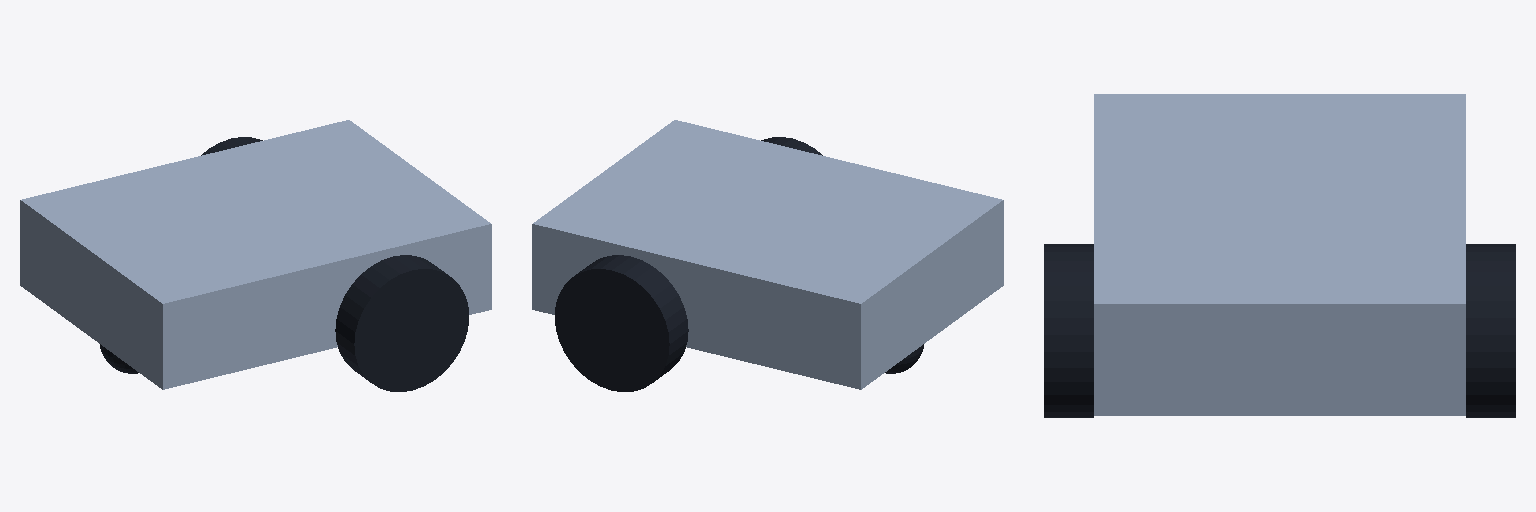
URDF robot description (diff_drive_base):
<?xml version="1.0"?>
<!-- Template of the robot builder (RFC 0016): a differential-drive base, two driven wheels
     and a caster. Sizes, densities, efforts and speeds are illustrative; edit them. -->
<robot name="diff_drive_base">
  <material name="builder_color_1">
    <color rgba="0.66 0.72 0.81 1"/>
  </material>
  <material name="builder_color_2">
    <color rgba="0.16 0.18 0.22 1"/>
  </material>
  <link name="base_link" lagrange_density="1240">
    <inertial lagrange_overrides="">
      <origin xyz="0 0 0"/>
      <mass value="14.879999999999999"/>
      <inertia ixx="0.124" ixy="0" ixz="0" iyy="0.21080000000000002" iyz="0" izz="0.31"/>
    </inertial>
    <visual>
      <geometry><box size="0.4 0.3 0.1"/></geometry>
      <material name="builder_color_1"/>
    </visual>
    <collision>
      <geometry><box size="0.4 0.3 0.1"/></geometry>
    </collision>
  </link>
  <link name="left_wheel" lagrange_density="1100">
    <inertial lagrange_overrides="">
      <origin xyz="0 0 0"/>
      <mass value="0.6773273761139597"/>
      <inertia ixx="0.0009200363525547953" ixy="0" ixz="0" iyy="0.0016594520714792015" iyz="-1.6418327118392777e-19" izz="0.0009200363525547953"/>
    </inertial>
    <visual>
      <origin xyz="0 0 0" rpy="1.5707963267948966 0 0"/>
      <geometry><cylinder radius="0.07" length="0.04"/></geometry>
      <material name="builder_color_2"/>
    </visual>
    <collision>
      <origin xyz="0 0 0" rpy="1.5707963267948966 0 0"/>
      <geometry><cylinder radius="0.07" length="0.04"/></geometry>
    </collision>
  </link>
  <link name="right_wheel" lagrange_density="1100">
    <inertial lagrange_overrides="">
      <origin xyz="0 0 0"/>
      <mass value="0.6773273761139597"/>
      <inertia ixx="0.0009200363525547953" ixy="0" ixz="0" iyy="0.0016594520714792015" iyz="-1.6418327118392777e-19" izz="0.0009200363525547953"/>
    </inertial>
    <visual>
      <origin xyz="0 0 0" rpy="1.5707963267948966 0 0"/>
      <geometry><cylinder radius="0.07" length="0.04"/></geometry>
      <material name="builder_color_2"/>
    </visual>
    <collision>
      <origin xyz="0 0 0" rpy="1.5707963267948966 0 0"/>
      <geometry><cylinder radius="0.07" length="0.04"/></geometry>
    </collision>
  </link>
  <link name="caster" lagrange_density="1100">
    <inertial lagrange_overrides="">
      <origin xyz="0 0 0"/>
      <mass value="0.19755381803323824"/>
      <inertia ixx="9.680137083628676e-05" ixy="0" ixz="0" iyy="9.680137083628676e-05" iyz="0" izz="9.680137083628676e-05"/>
    </inertial>
    <visual>
      <geometry><sphere radius="0.035"/></geometry>
      <material name="builder_color_2"/>
    </visual>
    <collision>
      <geometry><sphere radius="0.035"/></geometry>
    </collision>
  </link>
  <joint name="left_wheel_joint" type="continuous">
    <parent link="base_link"/>
    <child link="left_wheel"/>
    <origin xyz="0.08 0.17 -0.03" rpy="0 0 0"/>
    <axis xyz="0 1 0"/>
    <limit effort="5" velocity="10"/>
  </joint>
  <joint name="right_wheel_joint" type="continuous">
    <parent link="base_link"/>
    <child link="right_wheel"/>
    <origin xyz="0.08 -0.17 -0.03" rpy="0 0 0"/>
    <axis xyz="0 1 0"/>
    <limit effort="5" velocity="10"/>
  </joint>
  <joint name="caster_joint" type="fixed">
    <parent link="base_link"/>
    <child link="caster"/>
    <origin xyz="-0.15 0 -0.065" rpy="0 0 0"/>
  </joint>
  <gazebo reference="base_link">
    <sensor name="imu" type="imu">
      <pose>0 0 0 0 0 0</pose>
      <update_rate>100</update_rate>
    </sensor>
  </gazebo>
</robot>

--- Facts derived from the render (not from the file) ---
3 views of the same robot in one strip: view 1: azimuth 30°, elevation 25°; view 2: azimuth 150°, elevation 25°; view 3: azimuth 270°, elevation 25° (orthographic).
Robot: diff_drive_base — 4 links, 3 joints (2 continuous, 1 fixed); root link base_link; default pose: all joints at 0.
Links seen in each view (by area): view 1: base_link, right_wheel; view 2: base_link, left_wheel; view 3: base_link, left_wheel, right_wheel.
Boxes of the visible links, x1=… form: base_link: x1=20, y1=120, x2=491, y2=389; right_wheel: x1=335, y1=255, x2=468, y2=391; base_link: x1=532, y1=120, x2=1003, y2=389; left_wheel: x1=555, y1=255, x2=688, y2=391; base_link: x1=1094, y1=94, x2=1465, y2=415; left_wheel: x1=1466, y1=244, x2=1515, y2=417; right_wheel: x1=1044, y1=244, x2=1093, y2=417.
Size in the robot's own frame: 0.4 by 0.38 by 0.15 metres.
Geometry: primitives only (box / cylinder / sphere), no mesh files.
